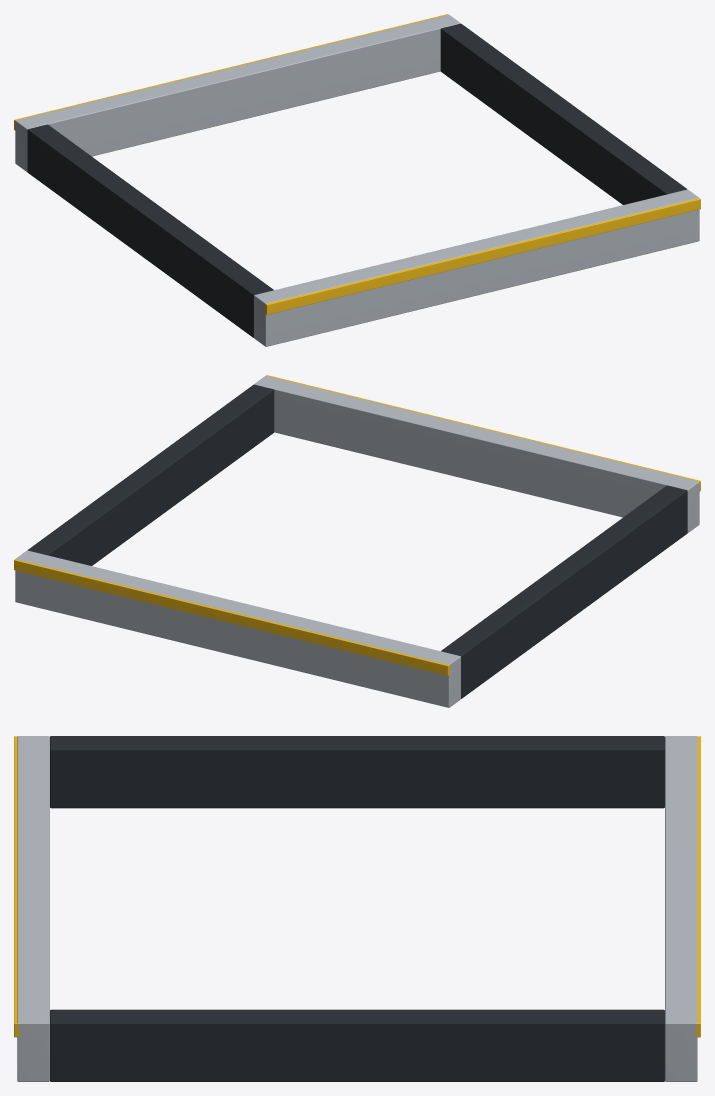
File: SM_PalletLift_CarrierPoweredFrame.fbx
The picture shows the model from 3 angles, top to bottom: view 1: azimuth 30°, elevation 25°; view 2: azimuth 150°, elevation 25°; view 3: azimuth 270°, elevation 25°; orthographic projection. The views are drawn at different scales.
Visible parts, largest first — view 1: SM_PalletLift_CarrierPoweredFrame; view 2: SM_PalletLift_CarrierPoweredFrame; view 3: SM_PalletLift_CarrierPoweredFrame.
Part boxes in pixels (x1=…): SM_PalletLift_CarrierPoweredFrame: x1=14, y1=14, x2=700, y2=346; SM_PalletLift_CarrierPoweredFrame: x1=14, y1=375, x2=700, y2=707; SM_PalletLift_CarrierPoweredFrame: x1=14, y1=736, x2=700, y2=1081.
Size of what is drawn, in the model's own units: 1.25 by 1.26 by 0.12.
